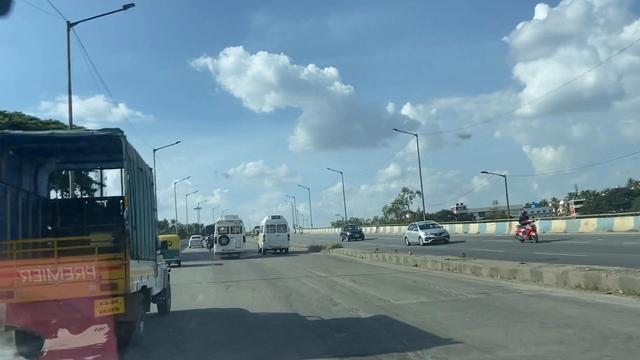HMV: (0, 130, 167, 354), (209, 214, 245, 257), (262, 211, 289, 252)
RoadDamages: (301, 277, 408, 360)
